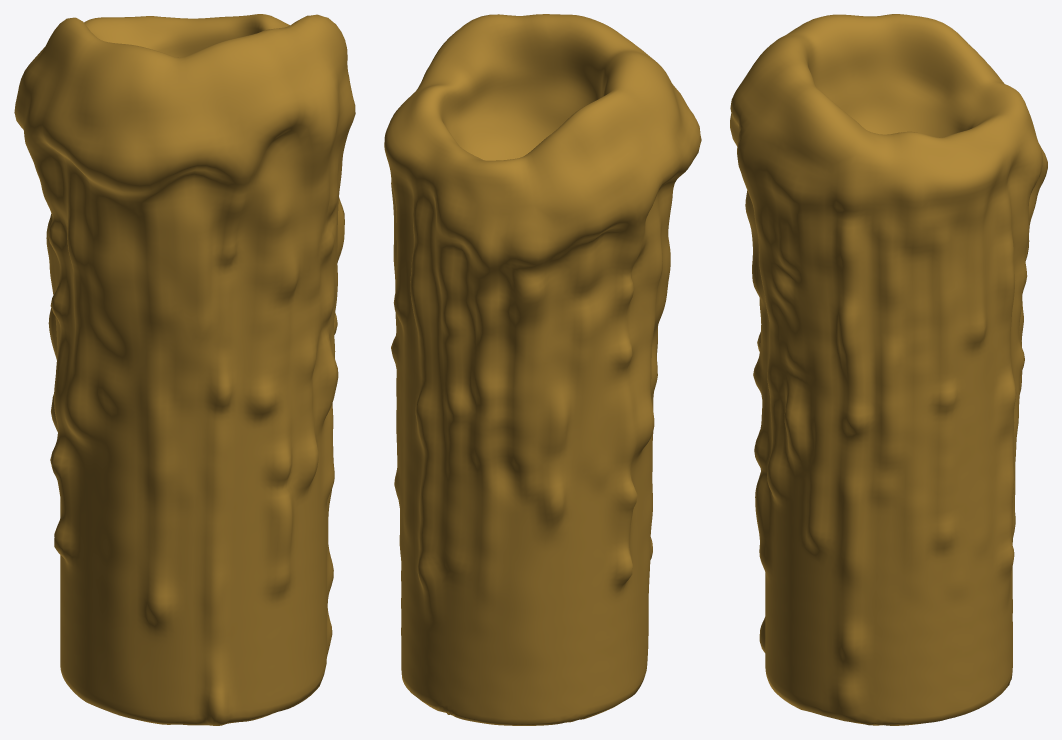
The model's file is finalcandletwo.fbx.
3 renders of one model, left to right at view 1: azimuth 30°, elevation 25°; view 2: azimuth 150°, elevation 25°; view 3: azimuth 270°, elevation 25°, orthographic. The views are drawn at different scales.
Parts seen in each view (by area): view 1: pCylinder1-retopo 1-retopo 1; view 2: pCylinder1-retopo 1-retopo 1; view 3: pCylinder1-retopo 1-retopo 1.
Boxes of the visible parts, x1,y1,x2,y2 form: pCylinder1-retopo 1-retopo 1: (14,14,355,725); pCylinder1-retopo 1-retopo 1: (384,14,701,725); pCylinder1-retopo 1-retopo 1: (730,14,1047,725).
Size of the model in its own units: 24.24 by 55.04 by 25.32.
